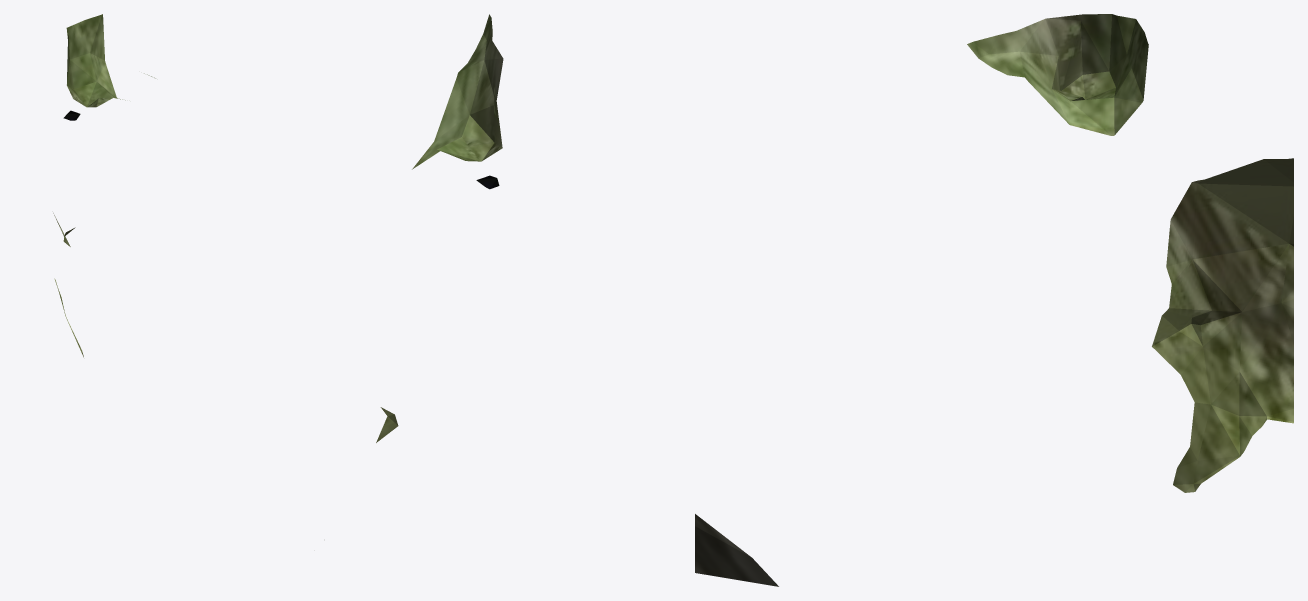
3 renders of one model, left to right at view 1: azimuth 30°, elevation 25°; view 2: azimuth 150°, elevation 25°; view 3: azimuth 270°, elevation 25°, orthographic. The views are drawn at different scales.
Size of the model in its own units: 0.4258 by 2.95 by 2.95.
1 material, 1 textured.
